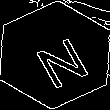N_NW: (22, 23, 88, 87)
